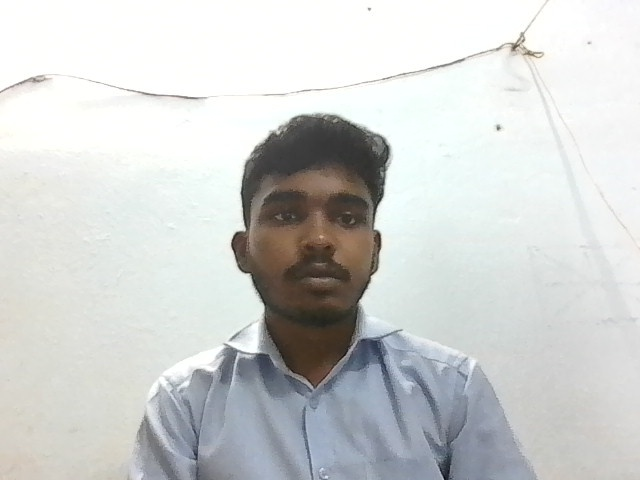real: (229, 100, 397, 338)
